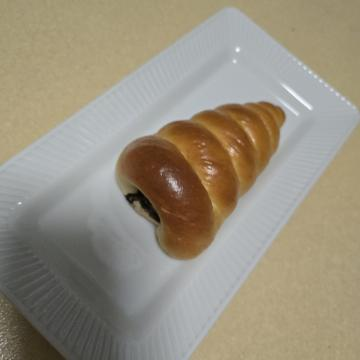cream horn: (76, 52, 280, 262)
